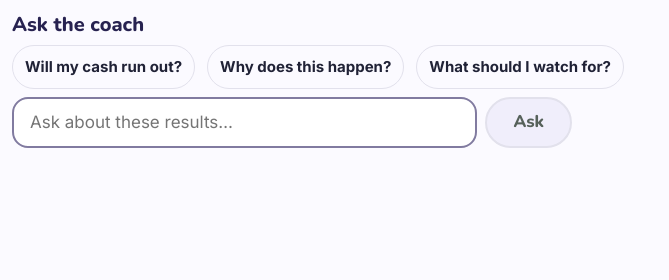
AskCoach › keeps the instant answer, with no error, when the AI fails
Step 1. Type "Any thoughts?" into the field named "Your question" → [245, 123], box [12,97,478,148]
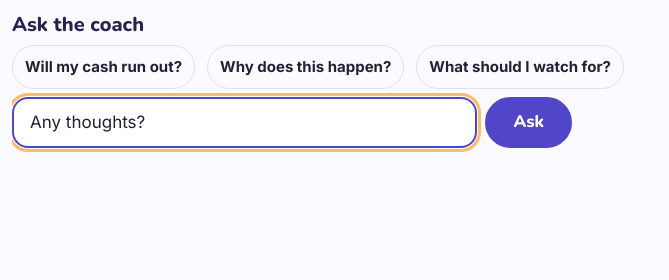
Step 2. Click the button "Ask" → [529, 123], box [486,97,572,148]
Wait 3100 ms
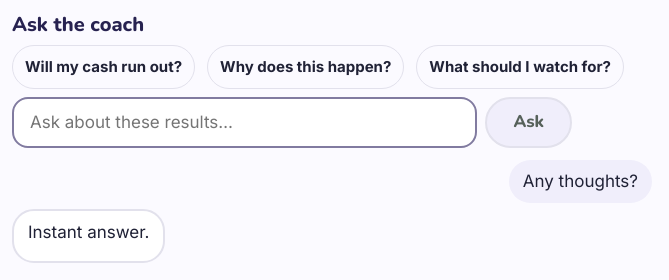
Now the text "Instant answer." is shown, box [28,219,150,247]
